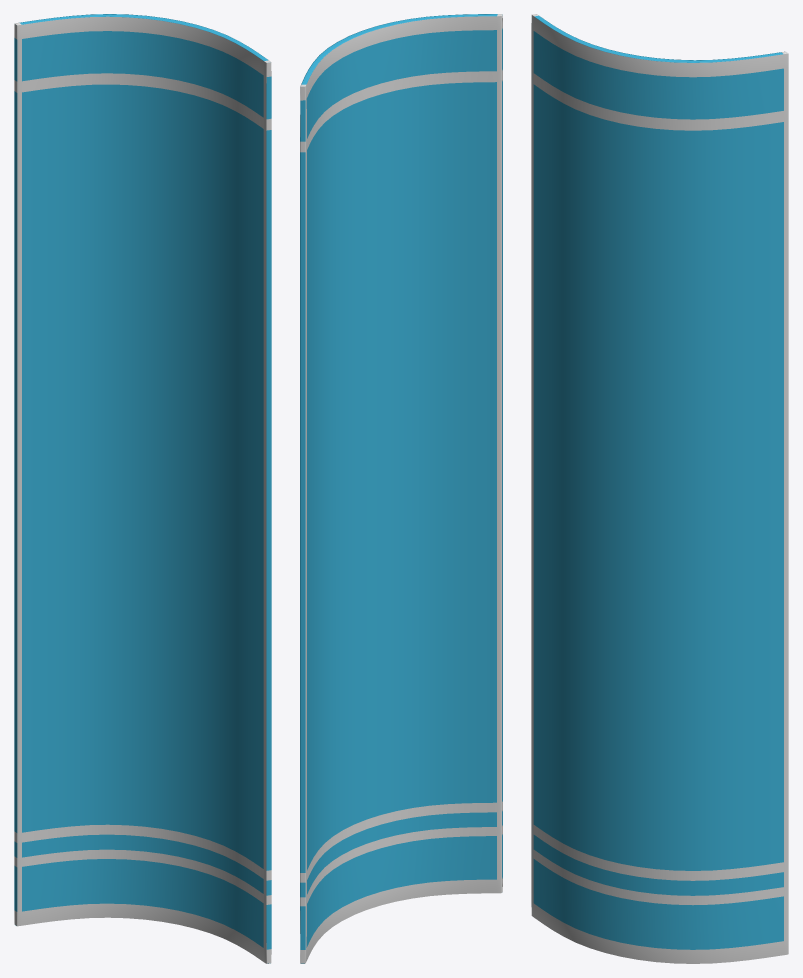
Rendered from PuertaIA.glb.
3 renders of one model, left to right at view 1: azimuth 90°, elevation 25°; view 2: azimuth 150°, elevation 25°; view 3: azimuth 270°, elevation 25°, orthographic. The views are drawn at different scales.
Parts seen in each view (by area): view 1: I_ascensor_puerta; view 2: I_ascensor_puerta; view 3: I_ascensor_puerta.
Part boxes in pixels (x1=…): I_ascensor_puerta: x1=14, y1=14, x2=271, y2=963; I_ascensor_puerta: x1=300, y1=14, x2=502, y2=963; I_ascensor_puerta: x1=531, y1=14, x2=788, y2=963.
Size of the model in its own units: 0.0226 by 0.1925 by 0.0498.
